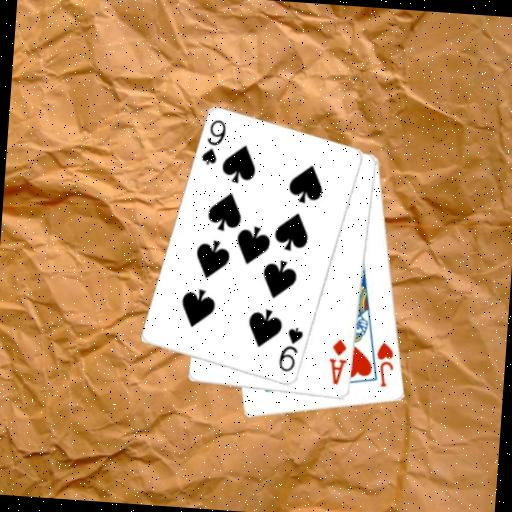9S: (275, 323, 305, 375), (199, 116, 229, 168)
AD: (325, 336, 350, 387)
JH: (372, 339, 398, 390)
